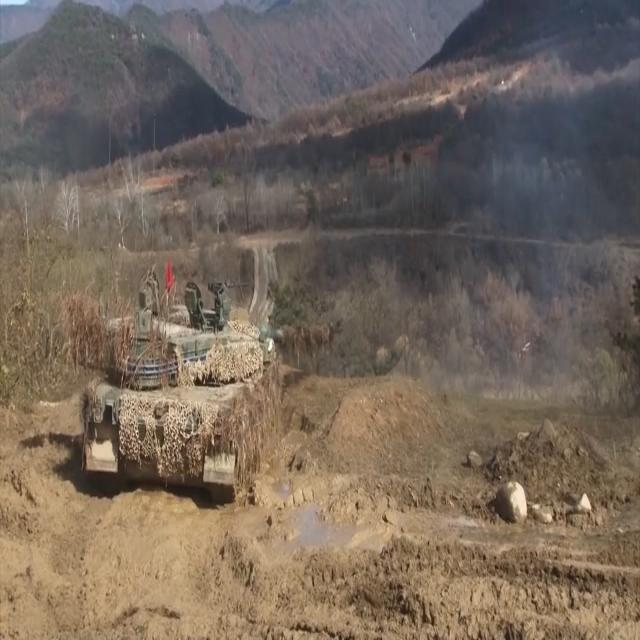korea tank: (69, 268, 343, 502)
